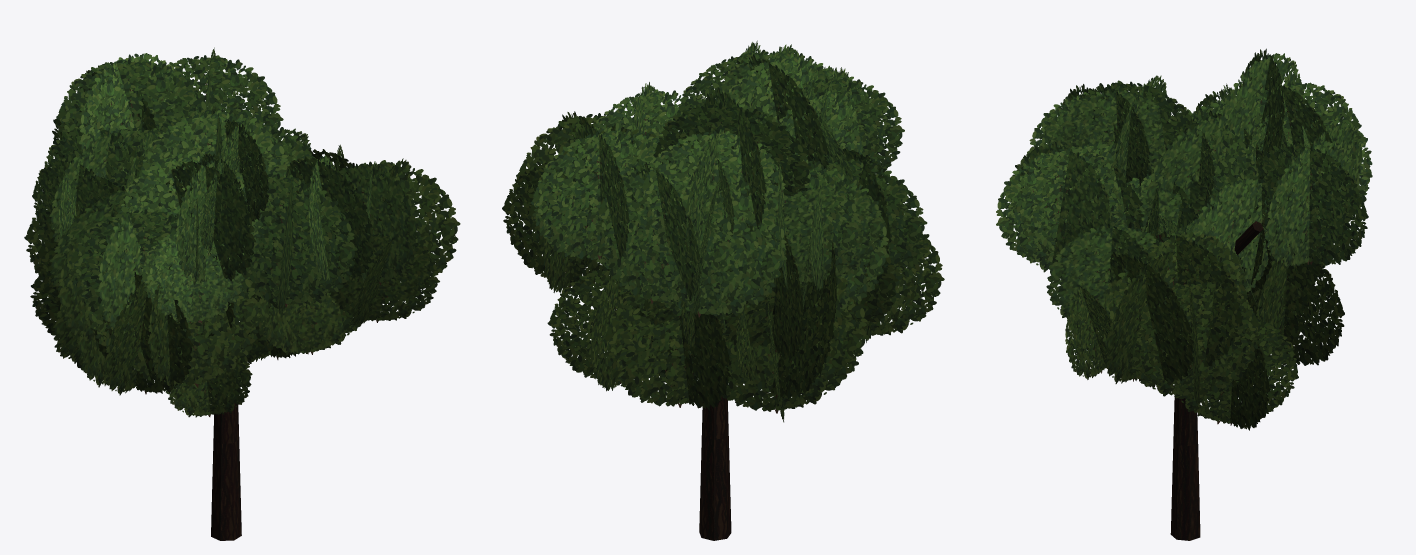
The model's file is camphor_b.glb.
3 renders of one model, left to right at view 1: azimuth 30°, elevation 25°; view 2: azimuth 150°, elevation 25°; view 3: azimuth 270°, elevation 25°, orthographic. The views are drawn at different scales.
Parts seen in each view (by area): view 1: tree_camphor; view 2: tree_camphor; view 3: tree_camphor.
Boxes of the visible parts, <box> form: tree_camphor: <box>24,47,460,540</box>; tree_camphor: <box>502,40,944,540</box>; tree_camphor: <box>996,48,1372,540</box>.
Size of the model in its own units: 6.91 by 8.35 by 6.9.
3 materials, 3 textured.
